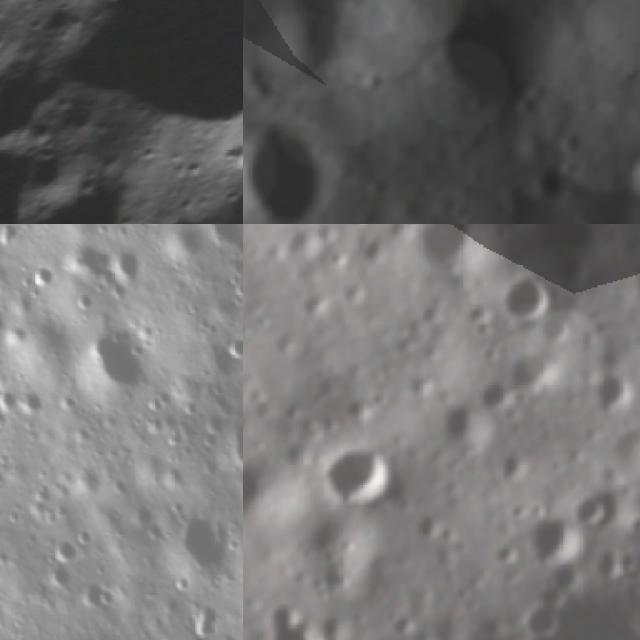crater: (22, 0, 243, 194), (391, 0, 560, 135), (17, 147, 174, 224), (243, 103, 341, 224), (0, 33, 66, 200), (254, 0, 359, 80), (83, 312, 154, 402), (320, 442, 401, 512), (416, 224, 499, 278), (524, 508, 591, 572), (516, 159, 582, 221), (499, 340, 568, 398), (180, 506, 237, 574), (433, 398, 496, 454), (494, 271, 558, 324), (265, 599, 341, 640), (611, 132, 640, 224), (585, 370, 640, 416), (572, 484, 621, 530), (513, 598, 562, 640), (106, 242, 148, 281), (191, 224, 243, 252), (192, 594, 221, 638), (224, 409, 243, 476), (24, 264, 62, 294), (90, 585, 124, 610), (23, 387, 50, 414), (54, 536, 83, 561), (50, 563, 80, 587), (0, 224, 25, 246), (227, 332, 243, 365), (0, 383, 21, 408), (227, 273, 243, 304), (73, 527, 98, 545)
